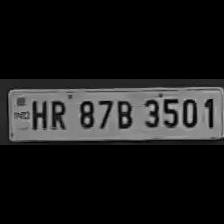0: (178, 96, 198, 128)
1: (200, 94, 218, 130)
3: (138, 95, 160, 129)
5: (160, 94, 178, 128)
7: (96, 96, 113, 130)
8: (72, 96, 96, 130)
B: (112, 96, 134, 130)
H: (28, 96, 48, 132)
R: (47, 96, 70, 132)
